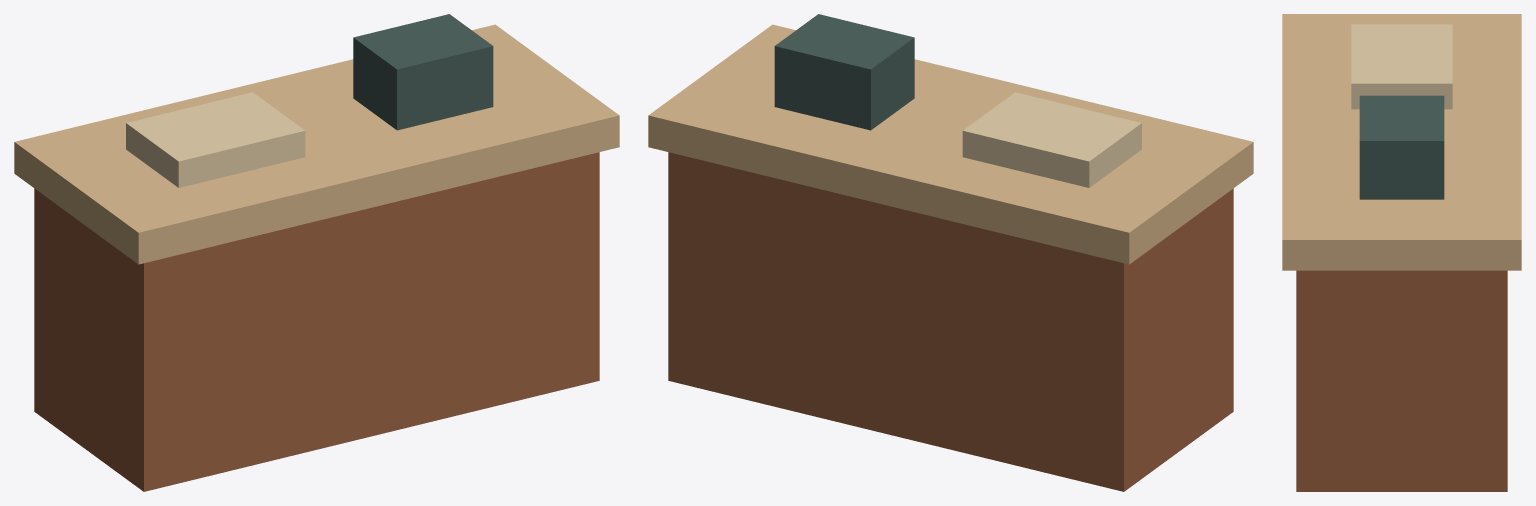
Rendered from grocery_counter.glb.
3 renders of one model, left to right at view 1: azimuth 30°, elevation 25°; view 2: azimuth 150°, elevation 25°; view 3: azimuth 270°, elevation 25°, orthographic. The views are drawn at different scales.
Visible parts, largest first — view 1: _MeshInstance3D_183, _MeshInstance3D_186, _MeshInstance3D_187, _MeshInstance3D_188; view 2: _MeshInstance3D_183, _MeshInstance3D_186, _MeshInstance3D_187, _MeshInstance3D_188; view 3: _MeshInstance3D_183, _MeshInstance3D_186, _MeshInstance3D_187, _MeshInstance3D_188.
Part boxes in pixels (left/top/right/bottom): _MeshInstance3D_183: left=34, top=152, right=599, bottom=491; _MeshInstance3D_186: left=14, top=24, right=619, bottom=264; _MeshInstance3D_187: left=353, top=14, right=493, bottom=130; _MeshInstance3D_188: left=126, top=92, right=305, bottom=187; _MeshInstance3D_183: left=668, top=152, right=1233, bottom=491; _MeshInstance3D_186: left=648, top=24, right=1253, bottom=264; _MeshInstance3D_187: left=774, top=14, right=914, bottom=130; _MeshInstance3D_188: left=962, top=92, right=1141, bottom=187; _MeshInstance3D_183: left=1296, top=270, right=1507, bottom=491; _MeshInstance3D_186: left=1282, top=14, right=1521, bottom=270; _MeshInstance3D_187: left=1359, top=95, right=1444, bottom=199; _MeshInstance3D_188: left=1351, top=24, right=1452, bottom=109.
Bounding box in the file's own units: 1.9 × 1.24 × 0.85.
